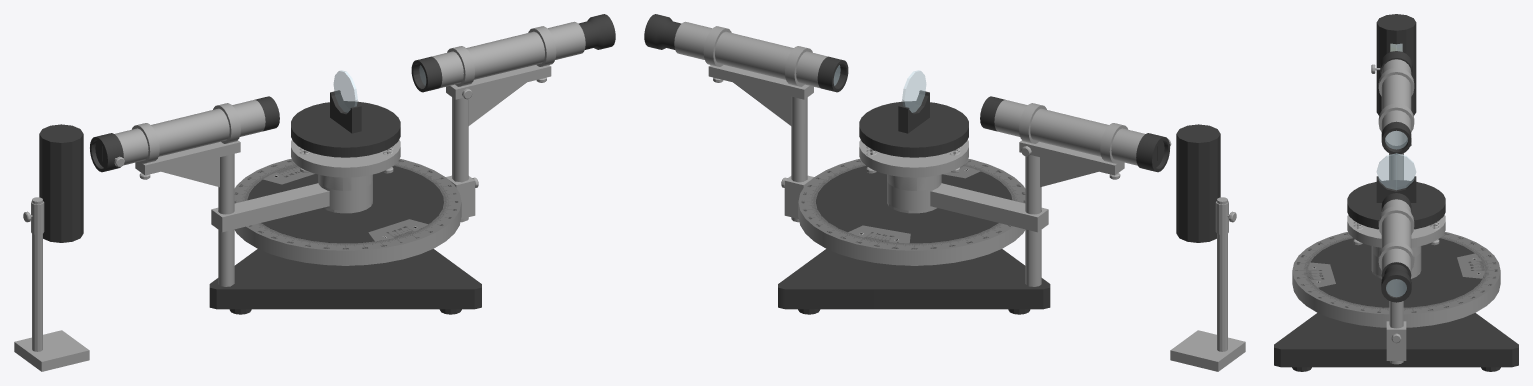
3 renders of one model, left to right at view 1: azimuth 30°, elevation 25°; view 2: azimuth 150°, elevation 25°; view 3: azimuth 270°, elevation 25°, orthographic. The views are drawn at different scales.
Parts seen in each view (by area): view 1: Base, Platform, platform04, Protractor, glass03, glass01, glass02, platform01, platform03, Light, platform02, objective_lens (+9 smaller); view 2: Base, Platform, platform04, Protractor, glass03, glass01, glass02, platform01, platform03, Light, platform02, objective_lens (+9 smaller); view 3: Base, Platform, Protractor, platform01, glass02, glass01, glass03, platform02, glass05, glass04, platform04, arm (+8 smaller).
Boxes of the visible parts, x1,y1,x2,y2 form: Base: (209, 249, 481, 309); Platform: (247, 165, 443, 243); platform04: (135, 140, 372, 286); Protractor: (234, 158, 461, 265); glass03: (411, 21, 585, 92); glass01: (39, 124, 83, 242); glass02: (115, 96, 279, 165); platform01: (291, 101, 400, 157); platform03: (446, 65, 551, 222); Light: (14, 197, 89, 371); platform02: (291, 139, 400, 177); objective_lens: (90, 133, 123, 172); Base: (778, 249, 1050, 309); Platform: (816, 165, 1012, 243); platform04: (887, 140, 1124, 286); Protractor: (798, 158, 1025, 265); glass03: (674, 21, 848, 92); glass01: (1176, 124, 1220, 242); glass02: (980, 96, 1144, 165); platform01: (859, 101, 968, 157); platform03: (708, 65, 813, 222); Light: (1170, 197, 1245, 371); platform02: (859, 139, 968, 177); objective_lens: (1136, 133, 1169, 172); Base: (1274, 313, 1518, 367); Platform: (1308, 238, 1484, 307); Protractor: (1292, 232, 1500, 327); platform01: (1347, 180, 1445, 229); glass02: (1381, 59, 1411, 154); glass01: (1376, 14, 1416, 115); glass03: (1381, 193, 1411, 282); platform02: (1347, 214, 1445, 247); glass05: (1376, 153, 1416, 190); glass04: (1381, 264, 1411, 302); platform04: (1371, 138, 1421, 276); arm: (1386, 321, 1406, 360).
Bounding box in the file's own units: 12.18 × 4.4 × 4.94.
5 materials, 1 textured.
